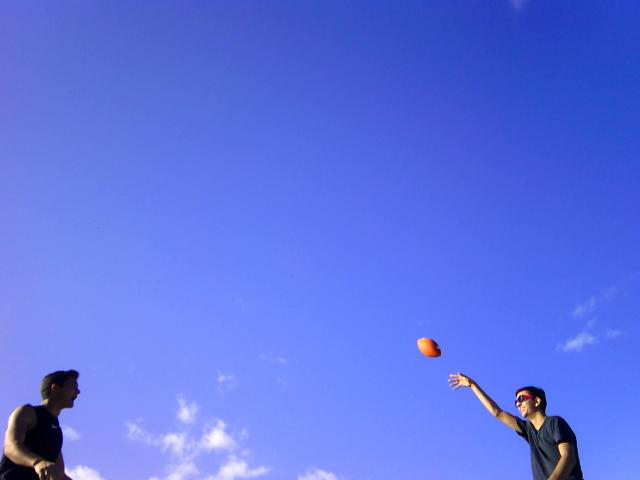football: (414, 332, 446, 361)
